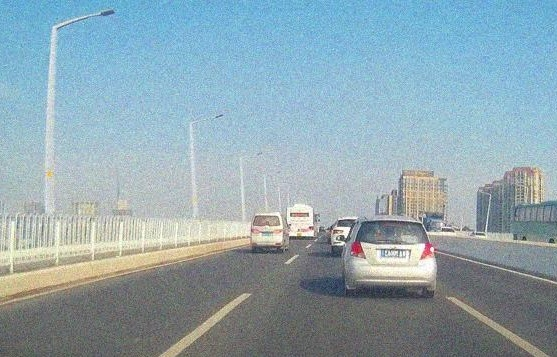L_light: (350, 242, 366, 259), (251, 229, 260, 234)
R_light: (419, 243, 435, 260), (274, 229, 282, 233)
T_light: (386, 219, 399, 224), (263, 215, 269, 217)
day-no: (250, 212, 283, 253)
day-right: (346, 215, 436, 297)
